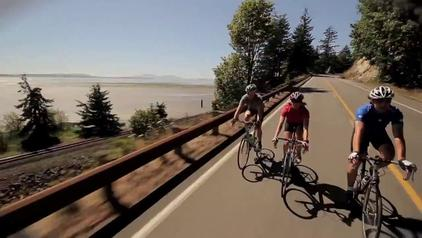sit: (279, 94, 307, 149), (238, 83, 263, 139)
stay: (238, 83, 263, 139)
